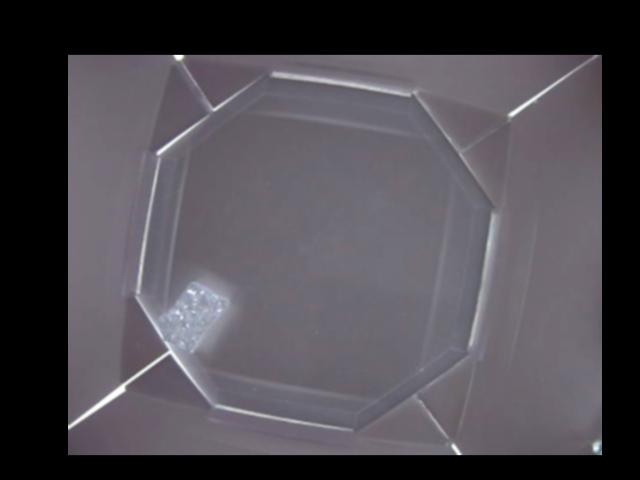China: (156, 281, 227, 350)
